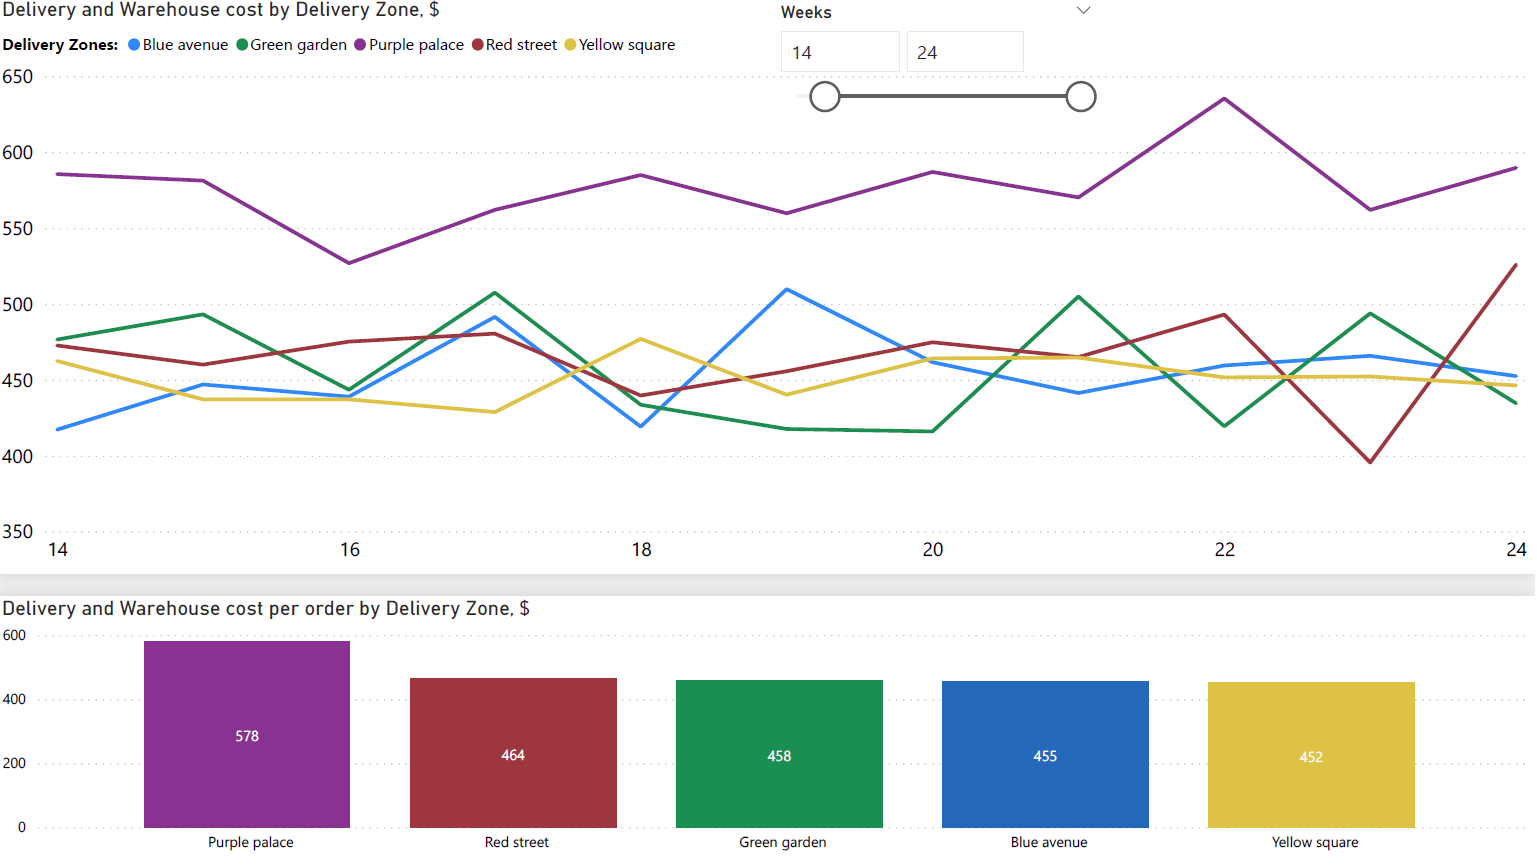

What the dashboard file says about the page in this screenshot:
{"tool":"powerbi","page":{"name":"Delivery Cost by zone","canvas":[1280,720],"ordinal":5},"visuals":[{"type":"columnChart","title":"Delivery and Warehouse cost per order by Delivery Zone, $","fields":{"Category":["zone_economy.delivery_zone"],"Y":["zone_economy.Delivery and WH cost per order"]},"box":[0,498.2,1280,222.4],"z":3000},{"type":"lineChart","title":"Delivery and Warehouse cost by Delivery Zone, $","fields":{"Series":["zone_economy.delivery_zone"],"Category":["zone_economy.Week"],"Y":["zone_economy.Delivery and WH cost per order"]},"box":[0,0,1280,481],"z":4000},{"type":"slicer","fields":{"Values":["zone_economy.Week"]},"box":[640.4,0,283.6,156.9],"z":4500}]}

Visuals, with their boxes in screenshot pixels (x1, y1, x2, y2), scaled from the page's 1280x720 canvas onto the 1537x867 screenshot:
"Delivery and Warehouse cost per order by Delivery Zone, $" columnChart: Rect(0, 600, 1536, 866)
"Delivery and Warehouse cost by Delivery Zone, $" lineChart: Rect(0, 0, 1536, 579)
slicer - zone_economy.Week: Rect(769, 0, 1110, 189)
